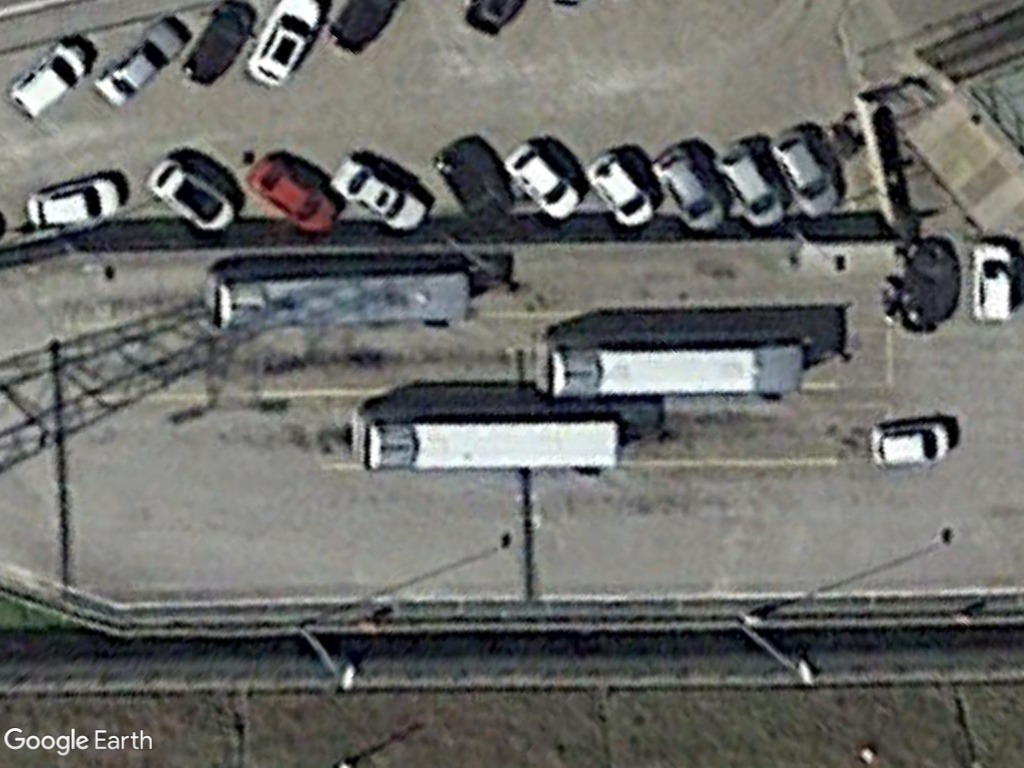bus: (199, 260, 474, 335), (350, 403, 627, 477), (533, 332, 806, 399)
car: (90, 13, 188, 111), (326, 152, 430, 233), (240, 154, 340, 234), (139, 157, 239, 233), (241, 0, 326, 89), (7, 35, 92, 121), (762, 130, 842, 218), (645, 145, 726, 230), (496, 140, 582, 220), (579, 147, 657, 229), (16, 177, 128, 233), (711, 143, 786, 225), (966, 233, 1021, 326), (866, 412, 953, 470)
